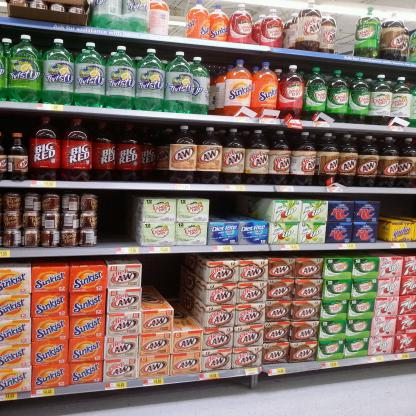Void: (144, 259, 198, 304), (96, 191, 134, 245), (214, 195, 259, 219), (334, 14, 356, 56), (379, 198, 416, 220), (171, 308, 201, 330), (168, 6, 186, 36)
